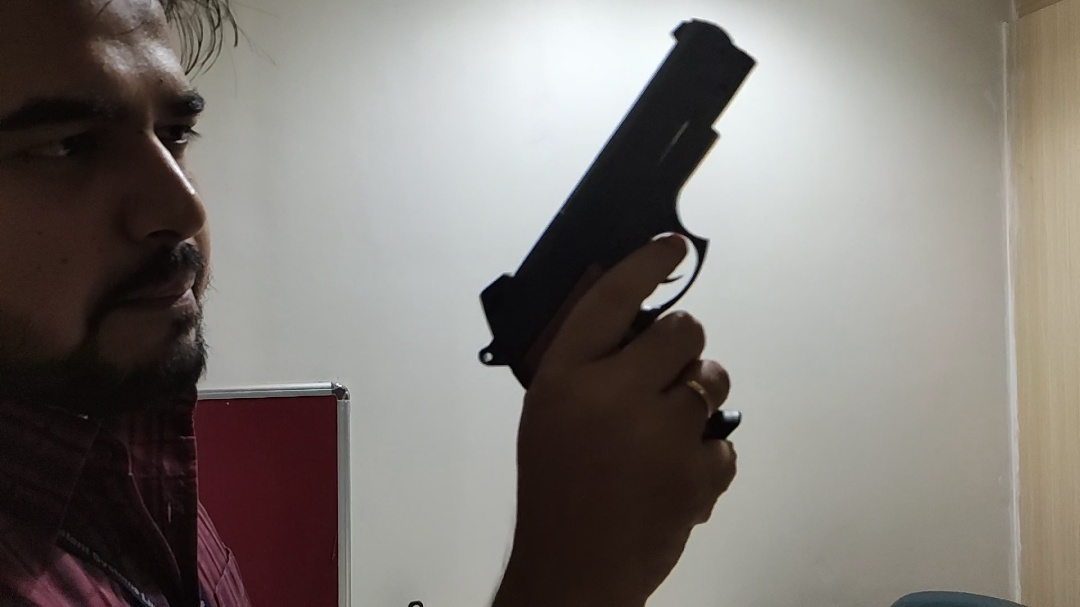gun: (473, 18, 758, 448)
